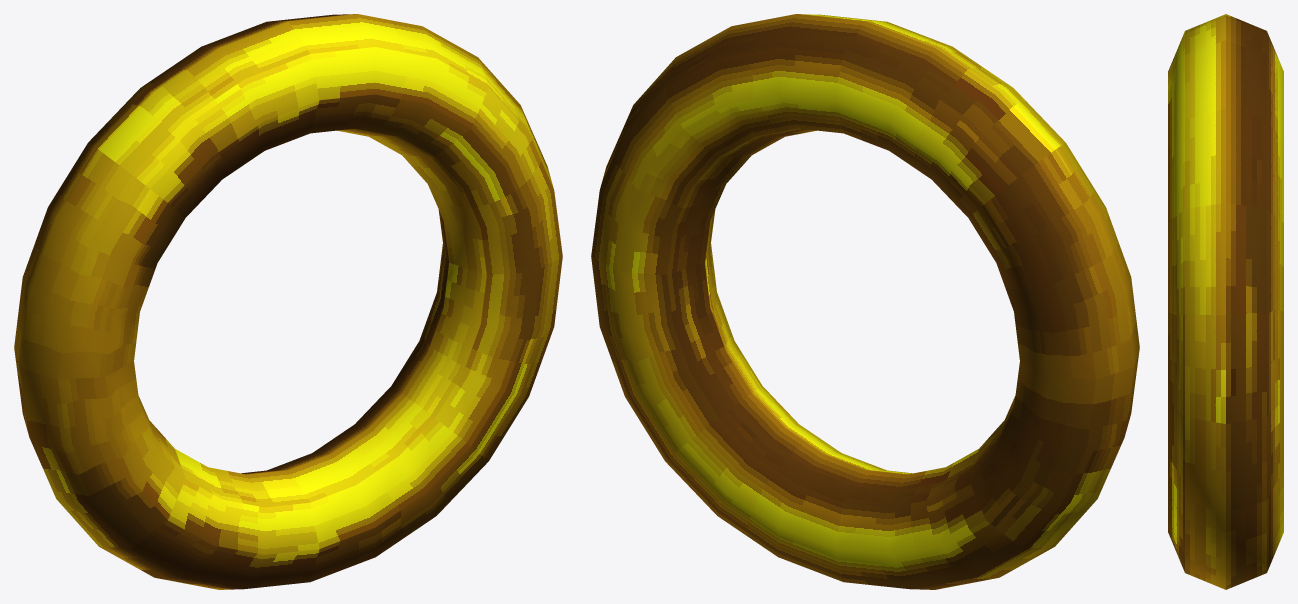
Rendered from Ring.gltf.
The picture shows the model from 3 angles, left to right: view 1: azimuth 30°, elevation 25°; view 2: azimuth 150°, elevation 25°; view 3: azimuth 270°, elevation 25°; orthographic projection. The views are drawn at different scales.
Visible parts, largest first — view 1: RingMesh; view 2: RingMesh; view 3: RingMesh.
Boxes of the visible parts, x1,y1,x2,y2 form: RingMesh: [14, 14, 562, 589]; RingMesh: [591, 14, 1139, 589]; RingMesh: [1168, 14, 1283, 589].
Size of the model in its own units: 0.998 by 0.998 by 0.2.
1 material, 1 textured.
